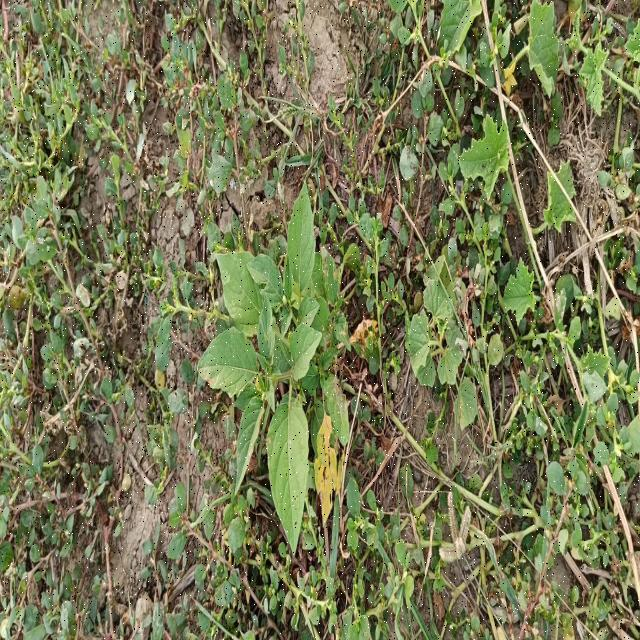plant: (199, 185, 349, 553)
